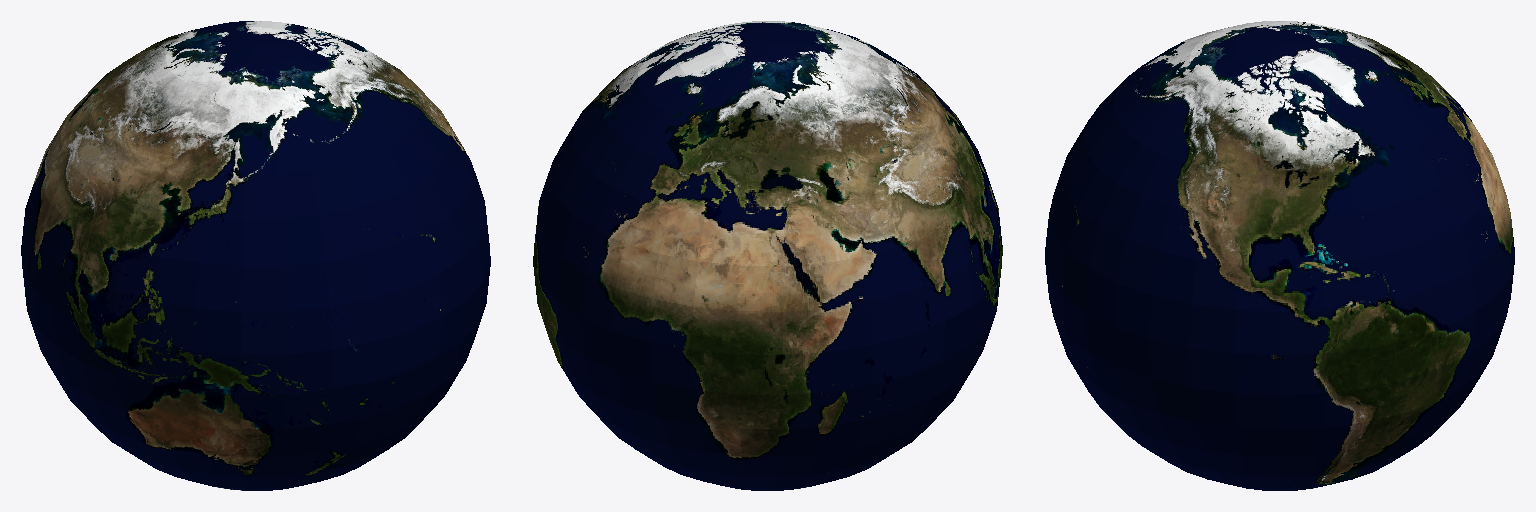
3 renders of one model, left to right at view 1: azimuth 30°, elevation 25°; view 2: azimuth 150°, elevation 25°; view 3: azimuth 270°, elevation 25°, orthographic.
Visible parts, largest first — view 1: base; view 2: base; view 3: base.
Boxes of the visible parts, <box> form: base: <box>21,21,490,490</box>; base: <box>533,21,1002,490</box>; base: <box>1045,21,1514,490</box>.
Size of the model in its own units: 0.5 by 0.5 by 0.5.
Materials: 2 (1 with a texture image).